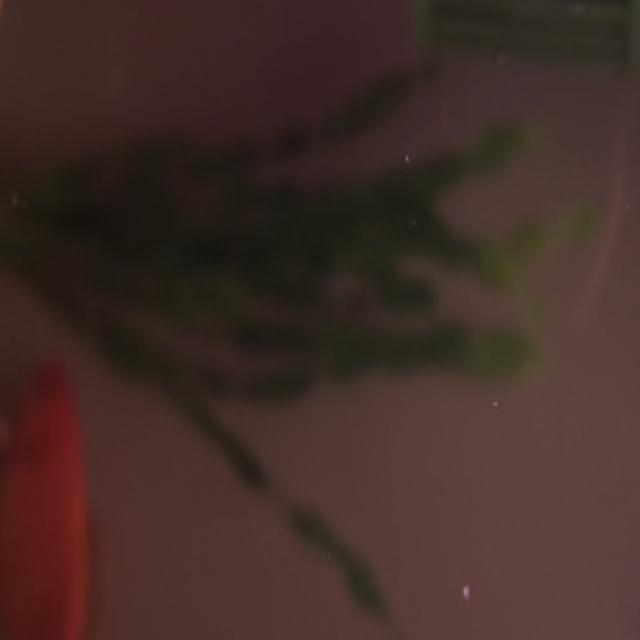fish: (0, 346, 95, 640)
